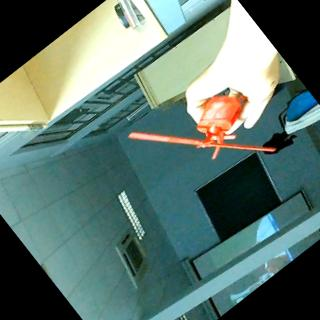Helicopter: (123, 62, 282, 219)
